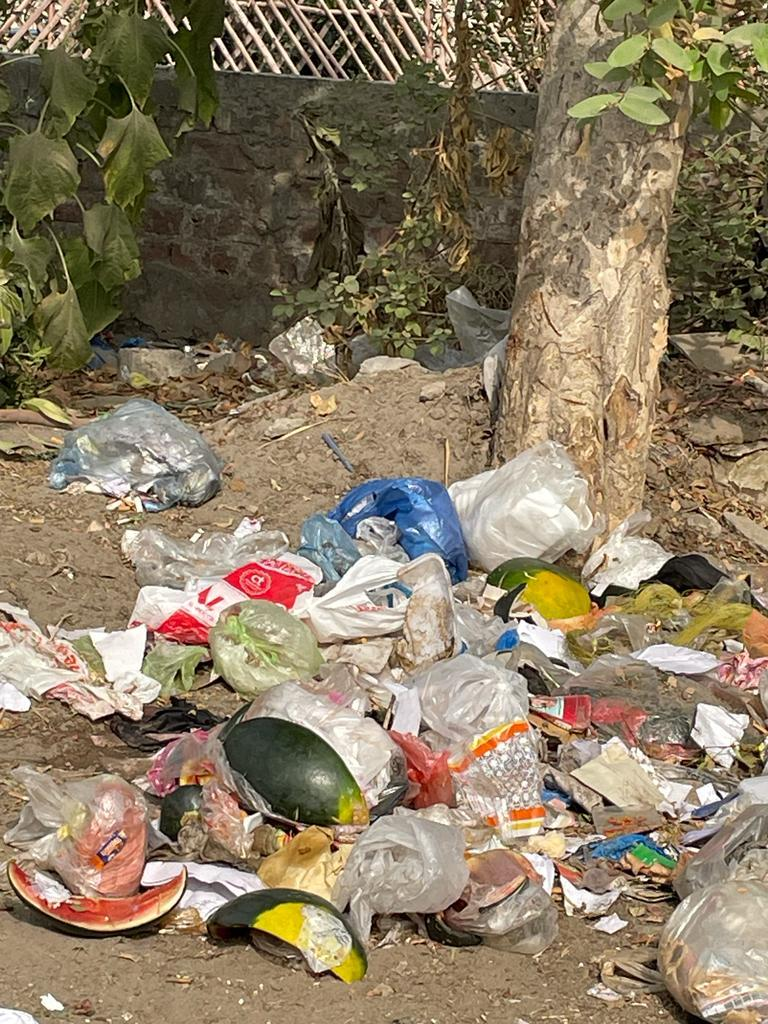garbage: (0, 427, 768, 1024)
